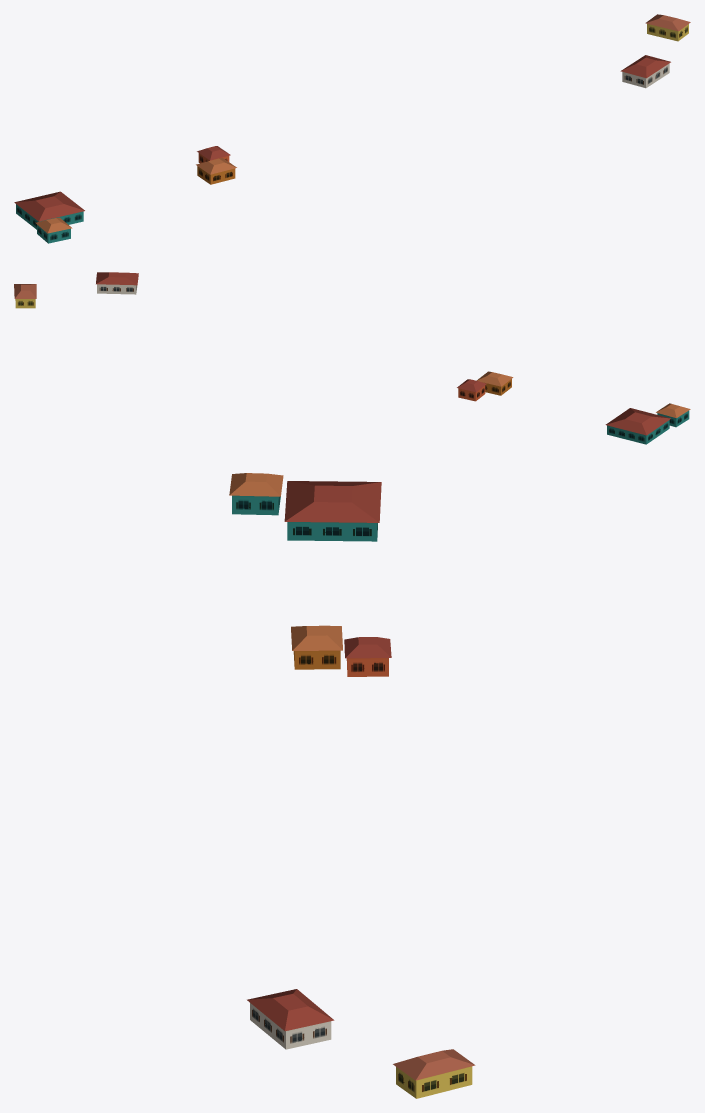
File: msb_palmbeach_m21_m9.glb
3 views of the same model, one above another, from view 1: azimuth 30°, elevation 25°; view 2: azimuth 150°, elevation 25°; view 3: azimuth 270°, elevation 25° (orthographic). The views are drawn at different scales.
Parts seen in each view (by area): view 1: msb_palmbeach_m21_m9_lod0; view 2: msb_palmbeach_m21_m9_lod0; view 3: msb_palmbeach_m21_m9_lod0.
Boxes of the visible parts, <box> form: msb_palmbeach_m21_m9_lod0: <box>14,14,690,243</box>; msb_palmbeach_m21_m9_lod0: <box>14,272,690,444</box>; msb_palmbeach_m21_m9_lod0: <box>229,473,475,1098</box>.
Size of what is drawn, in the model's own units: 235 by 6.82 by 39.66.
2 materials, 1 textured.
